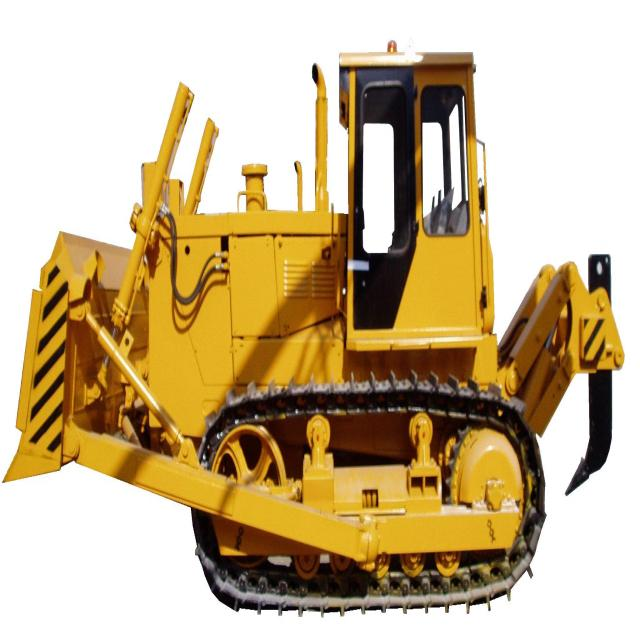Bulldozer: (19, 31, 640, 624)
